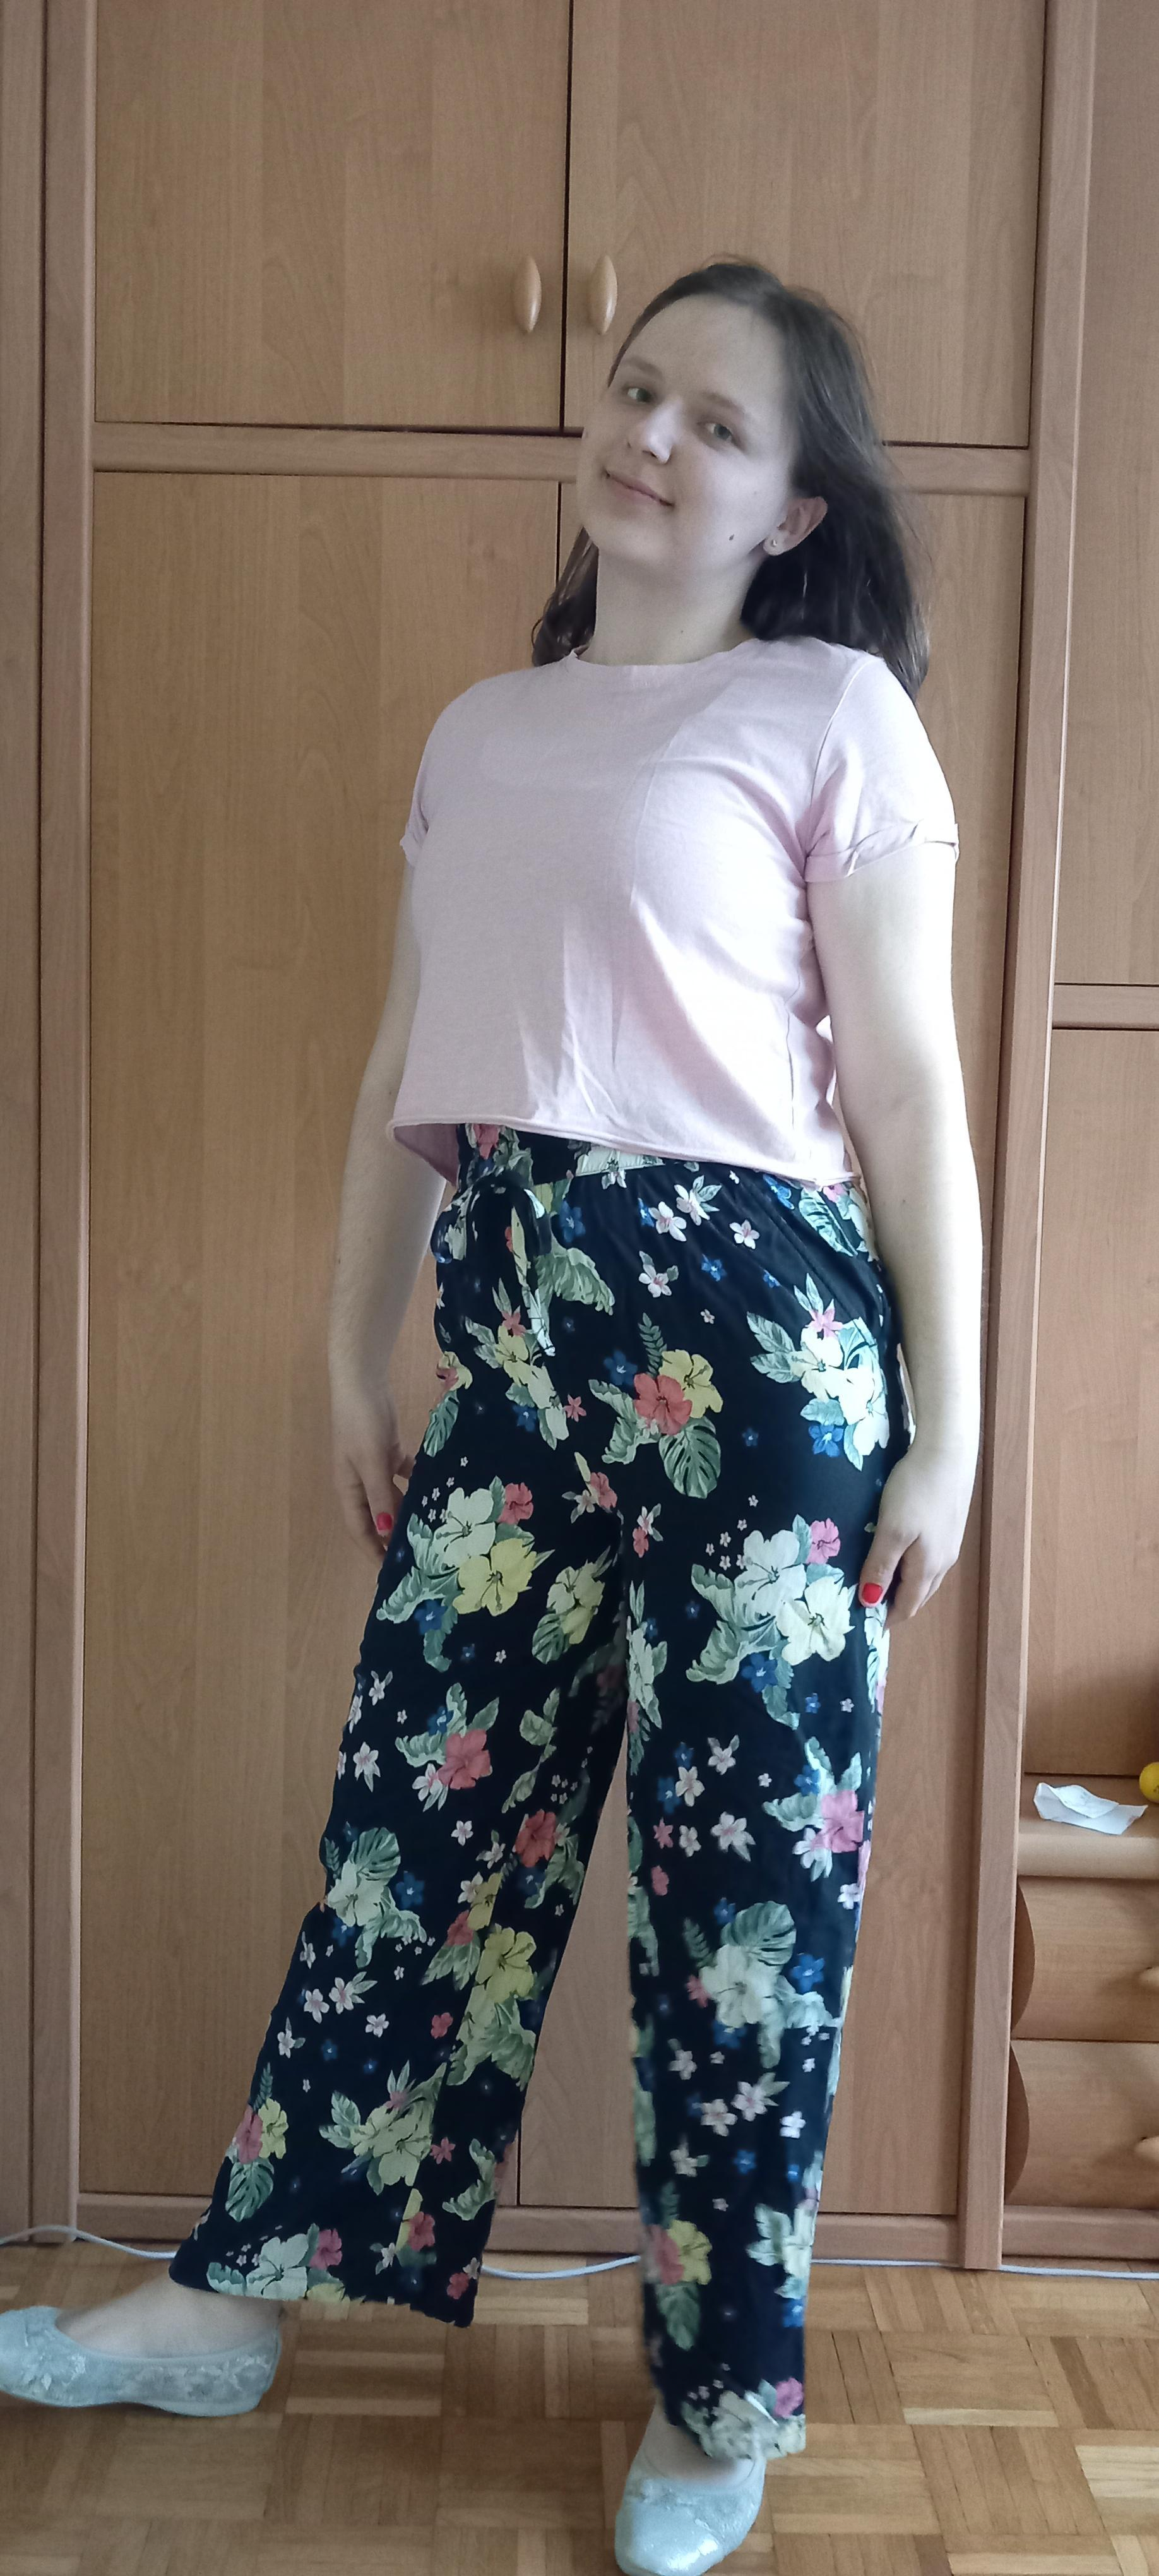Tshirt: (387, 644, 960, 1193)
pants: (171, 1125, 914, 2469)
